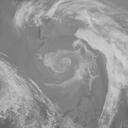cyclone: (43, 50, 99, 84)
